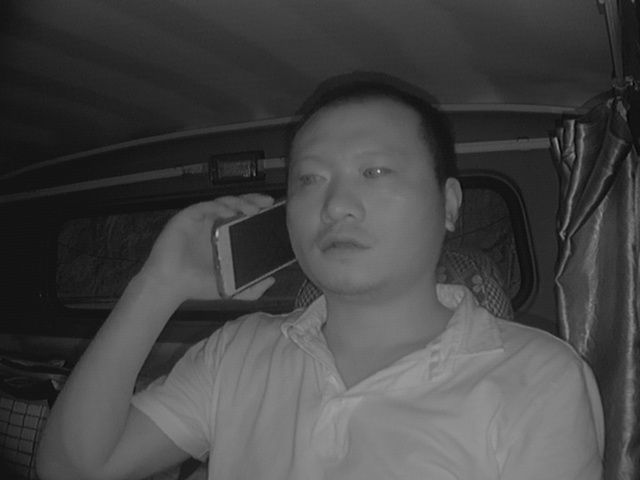hand: (154, 193, 277, 311)
